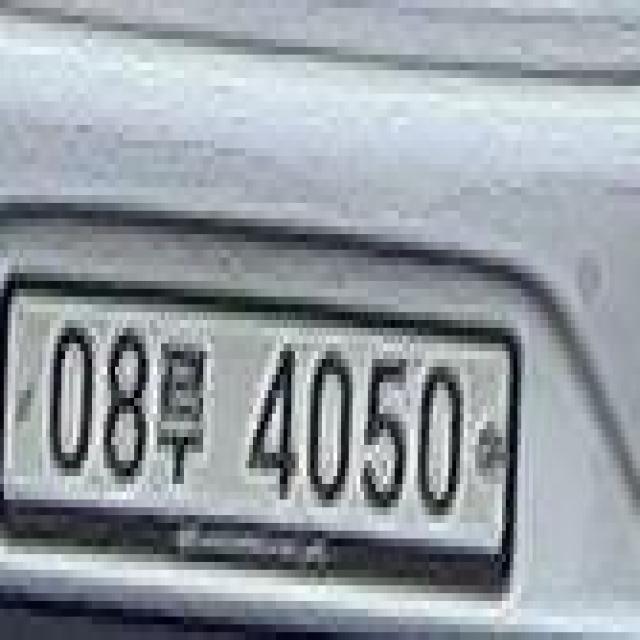illegal_plate: (11, 267, 520, 605)
